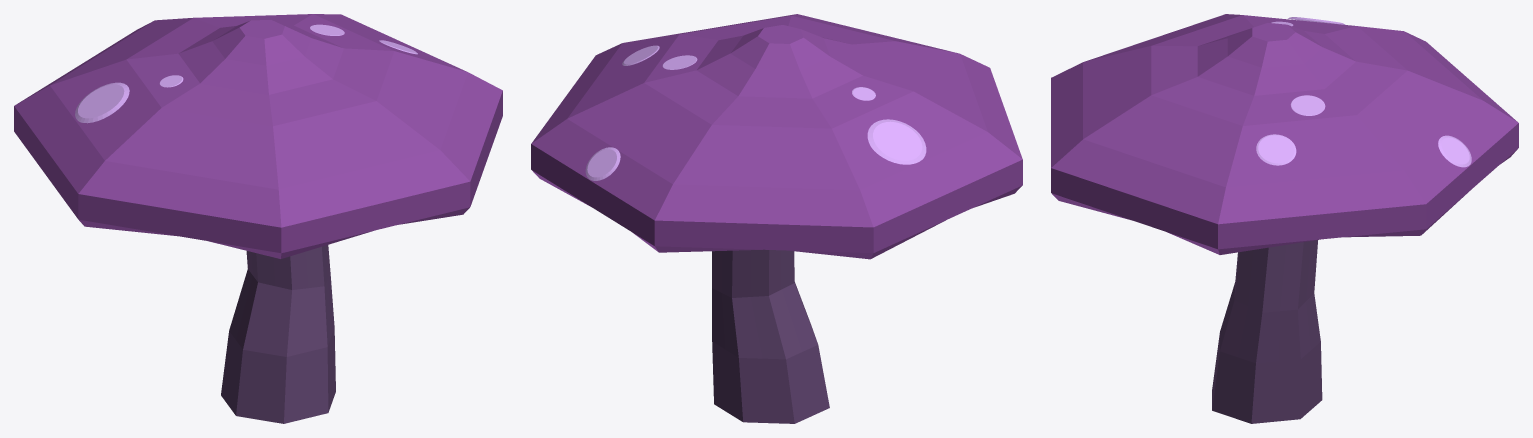
The model's file is mushroom-1.fbx.
3 views of the same model, side by side, from view 1: azimuth 30°, elevation 25°; view 2: azimuth 150°, elevation 25°; view 3: azimuth 270°, elevation 25° (orthographic). The views are drawn at different scales.
Parts seen in each view (by area): view 1: Cylinder, Circle; view 2: Cylinder, Circle, Circle.002; view 3: Cylinder, Circle.004, Circle.002, Circle.003.
Boxes of the visible parts, box(x1,y1,x2,y2) form: Cylinder: box(14, 14, 502, 423); Circle: box(75, 82, 129, 123); Cylinder: box(531, 14, 1022, 423); Circle: box(867, 119, 926, 164); Circle.002: box(585, 147, 620, 180); Cylinder: box(1051, 14, 1518, 423); Circle.004: box(1256, 134, 1296, 165); Circle.002: box(1438, 135, 1471, 167); Circle.003: box(1290, 95, 1325, 115).
Size of the model in its own units: 359 by 299 by 350.
